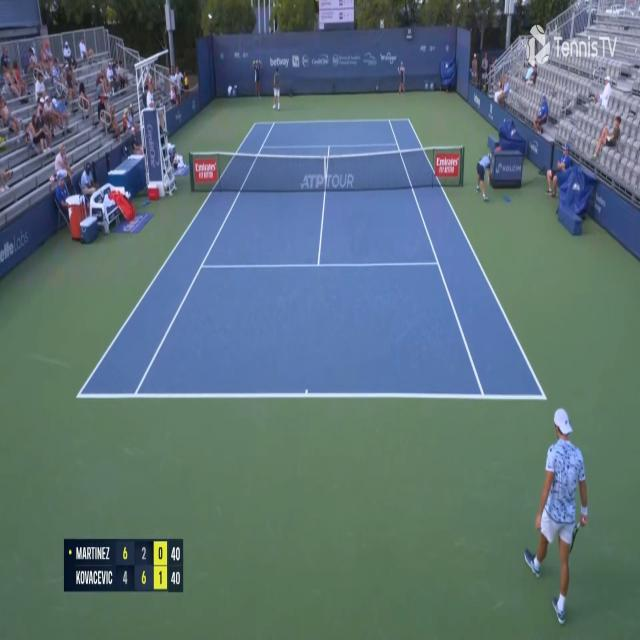tennis-player: (520, 404, 591, 630), (272, 66, 282, 112)
